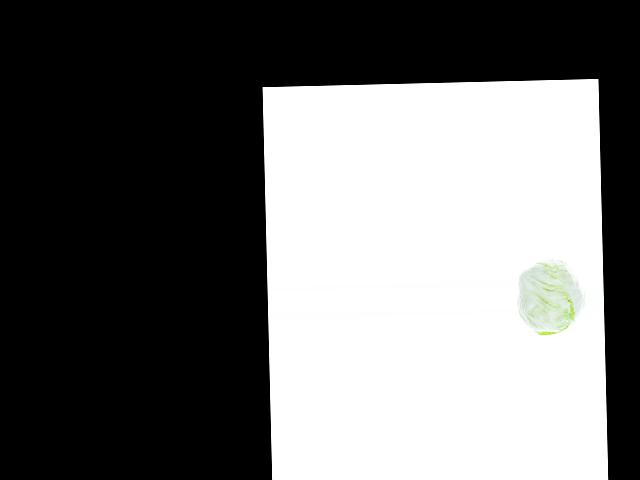lettuce: (519, 259, 584, 334)
